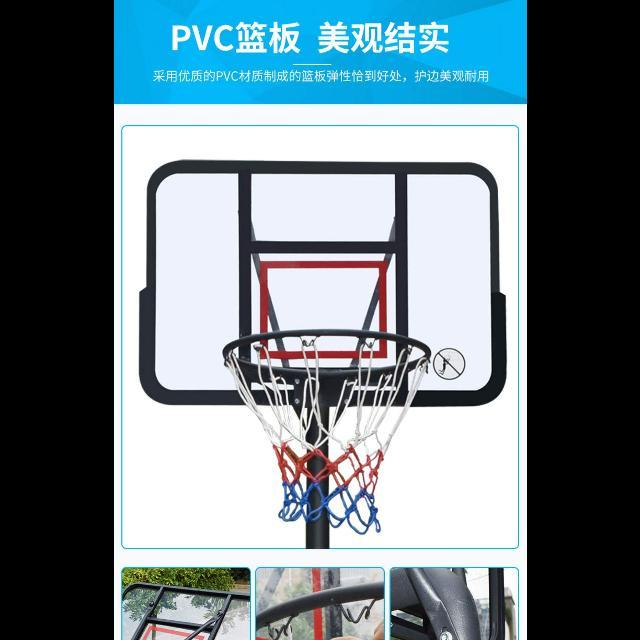rim: (223, 327, 431, 533)
